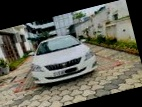car: (24, 28, 101, 89)
